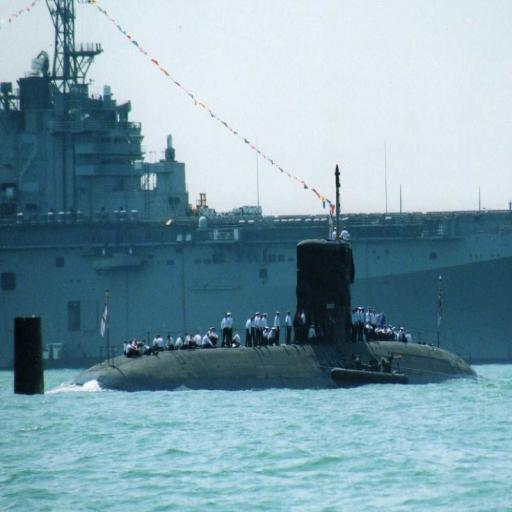submarine: (9, 160, 508, 399)
